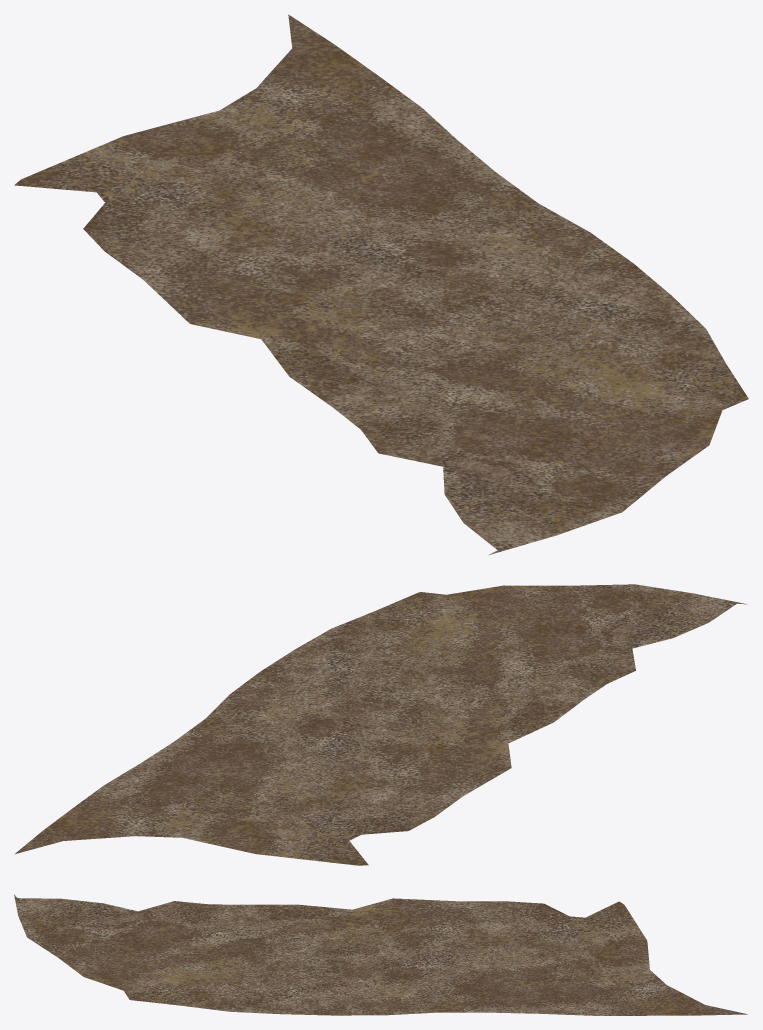
The model's file is suelo_t_1.obj.
The picture shows the model from 3 angles, top to bottom: view 1: azimuth 30°, elevation 25°; view 2: azimuth 150°, elevation 25°; view 3: azimuth 270°, elevation 25°; orthographic projection. The views are drawn at different scales.
Visible parts, largest first — view 1: suelo_t_1; view 2: suelo_t_1; view 3: suelo_t_1.
Part boxes in pixels (<box>): suelo_t_1: <box>14,14,748,555</box>; suelo_t_1: <box>14,584,746,865</box>; suelo_t_1: <box>14,894,747,1015</box>.
Bounding box in the file's own units: 211 × 0 × 539.
1 material, 1 textured.
